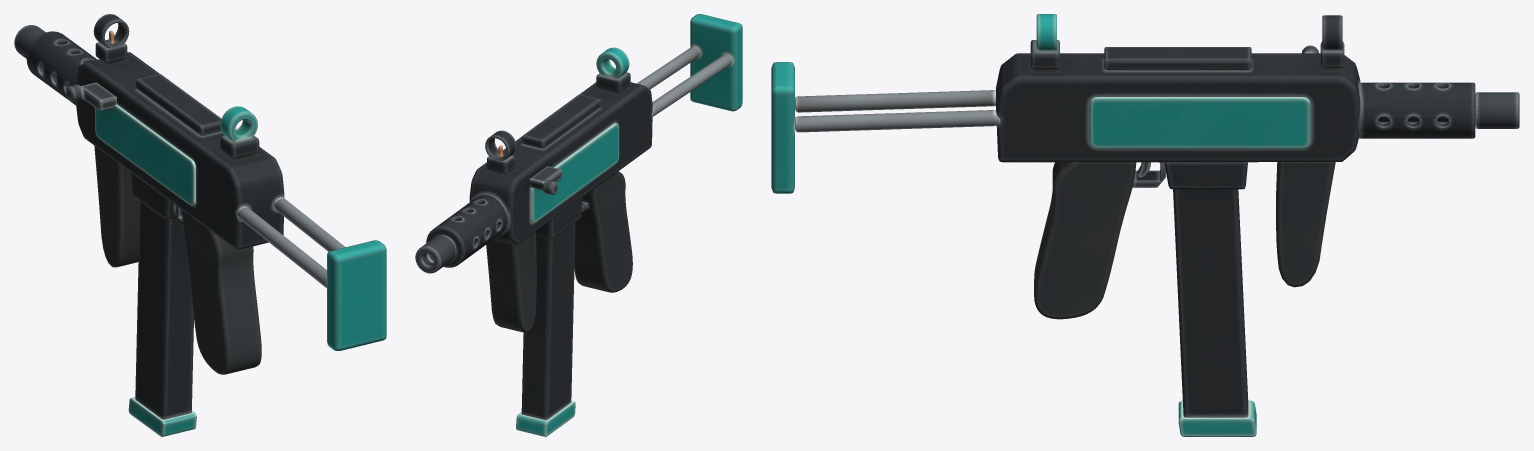
Rendered from smg.glb.
3 renders of one model, left to right at view 1: azimuth 30°, elevation 25°; view 2: azimuth 150°, elevation 25°; view 3: azimuth 270°, elevation 25°, orthographic. The views are drawn at different scales.
Visible parts, largest first — view 1: smg_body, smg_mag, smg_charge; view 2: smg_body, smg_mag, smg_charge; view 3: smg_body, smg_mag.
Boxes of the visible parts, x1=… form: smg_body: x1=14, y1=14, x2=386, y2=374; smg_mag: x1=128, y1=201, x2=196, y2=436; smg_charge: x1=66, y1=82, x2=116, y2=110; smg_body: x1=415, y1=14, x2=742, y2=332; smg_mag: x1=516, y1=222, x2=575, y2=436; smg_charge: x1=529, y1=166, x2=562, y2=194; smg_body: x1=771, y1=14, x2=1519, y2=319; smg_mag: x1=1173, y1=189, x2=1256, y2=436.
Size of the model in its own units: 0.0695 by 0.309 by 0.508.
Materials: 1 (1 with a texture image).
